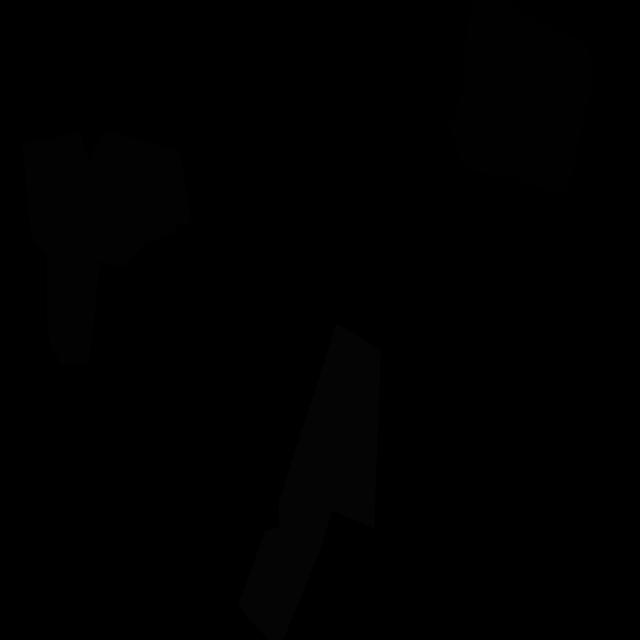cardboard: (22, 132, 102, 366), (90, 130, 192, 267)
rigid_plastic: (450, 0, 593, 198)
soft_plastic: (238, 324, 381, 640)
